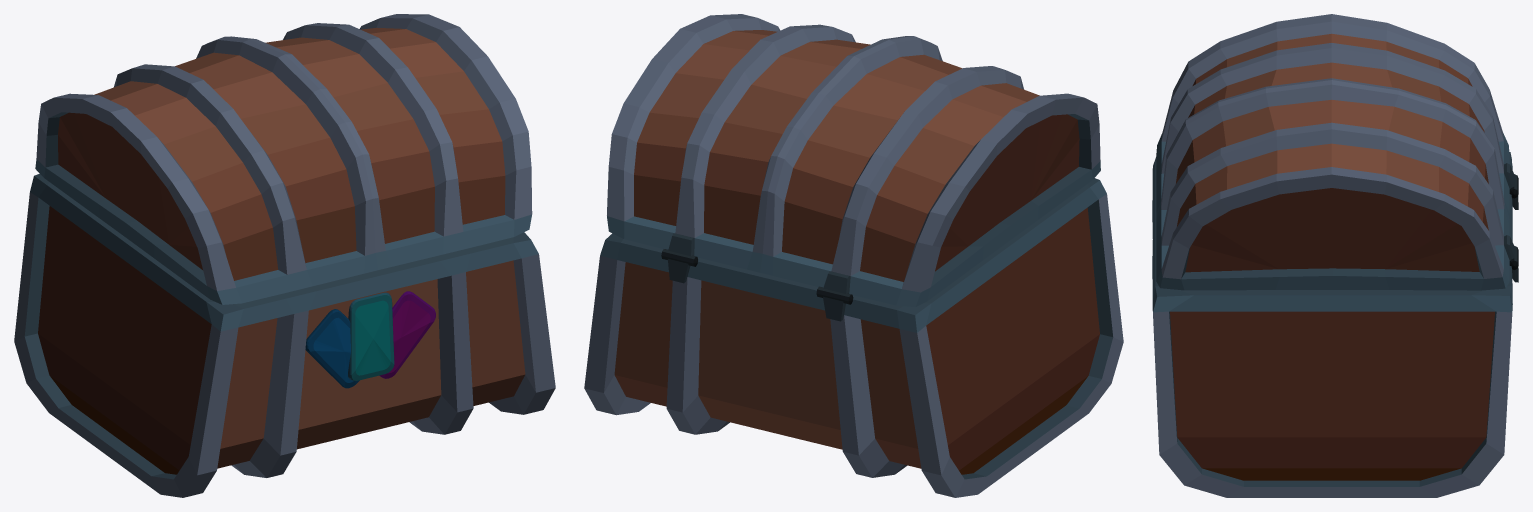
The model's file is Chest_Icon.fbx.
3 renders of one model, left to right at view 1: azimuth 30°, elevation 25°; view 2: azimuth 150°, elevation 25°; view 3: azimuth 270°, elevation 25°, orthographic. The views are drawn at different scales.
Parts seen in each view (by area): view 1: ChestIcon; view 2: ChestIcon; view 3: ChestIcon.
Part boxes in pixels (x1=…): ChestIcon: x1=14, y1=14, x2=555, y2=497; ChestIcon: x1=584, y1=14, x2=1123, y2=497; ChestIcon: x1=1152, y1=14, x2=1518, y2=497.
Size of the model in its own units: 84.77 by 79.9 by 79.2.
